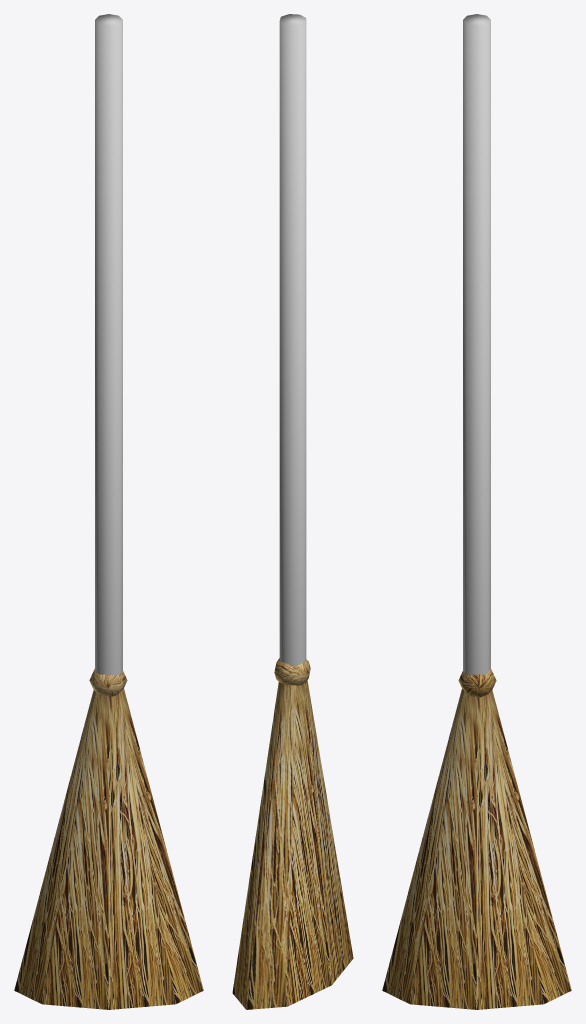
The model's file is Broom.FBX.
The picture shows the model from 3 angles, left to right: view 1: azimuth 90°, elevation 25°; view 2: azimuth 150°, elevation 25°; view 3: azimuth 270°, elevation 25°; orthographic projection.
Visible parts, largest first — view 1: Cylinder01; view 2: Cylinder01; view 3: Cylinder01.
Part boxes in pixels (x1,y1,x2,y2): Cylinder01: (14, 14, 203, 1009); Cylinder01: (232, 14, 353, 1009); Cylinder01: (382, 14, 571, 1009).
Bounding box in the file's own units: 8.4 × 98.59 × 17.45.
